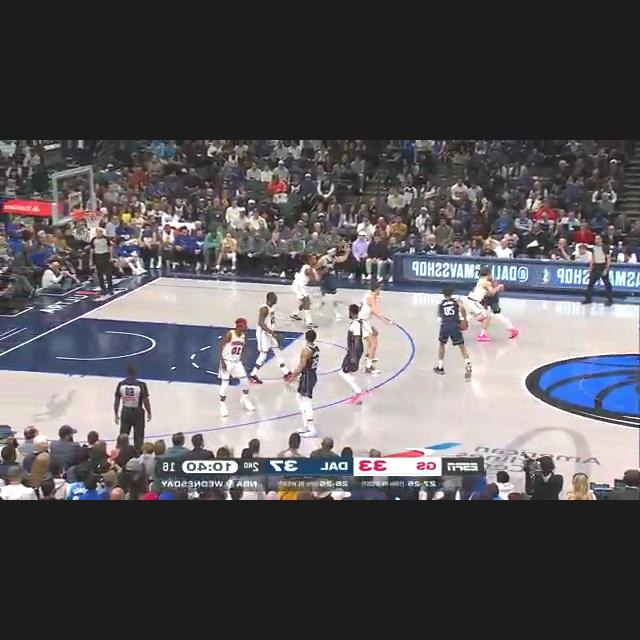Ball: (458, 318, 470, 334)
Team-1-Player: (426, 283, 474, 379), (287, 328, 323, 442), (335, 302, 369, 406), (312, 241, 353, 317)
Team-2-Player: (215, 316, 255, 426), (250, 290, 294, 386), (465, 262, 505, 310), (356, 285, 396, 325)
